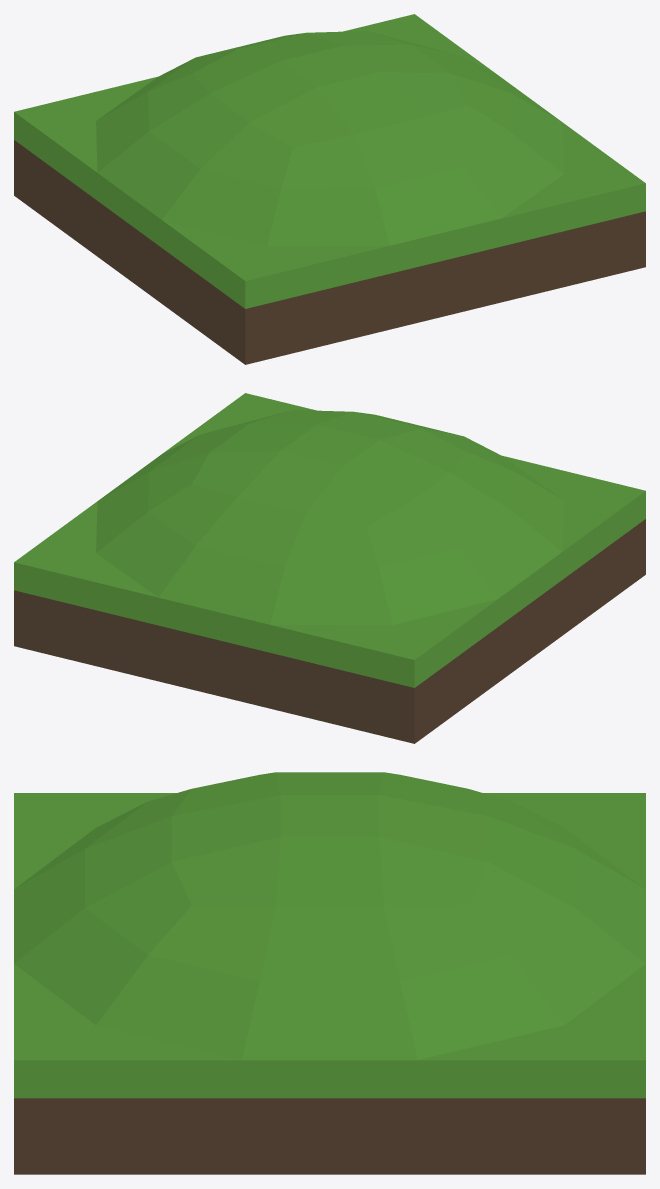
File: tile-plain-hump.glb
3 views of the same model, one above another, from view 1: azimuth 30°, elevation 25°; view 2: azimuth 150°, elevation 25°; view 3: azimuth 270°, elevation 25° (orthographic). The views are drawn at different scales.
Visible parts, largest first — view 1: tile-plain-hump; view 2: tile-plain-hump; view 3: tile-plain-hump.
Part boxes in pixels (x1=…): tile-plain-hump: x1=14, y1=14, x2=645, y2=364; tile-plain-hump: x1=14, y1=393, x2=645, y2=743; tile-plain-hump: x1=14, y1=772, x2=645, y2=1174.
Bounding box in the file's own units: 30 × 11.8 × 30.
1 material, 1 textured.
